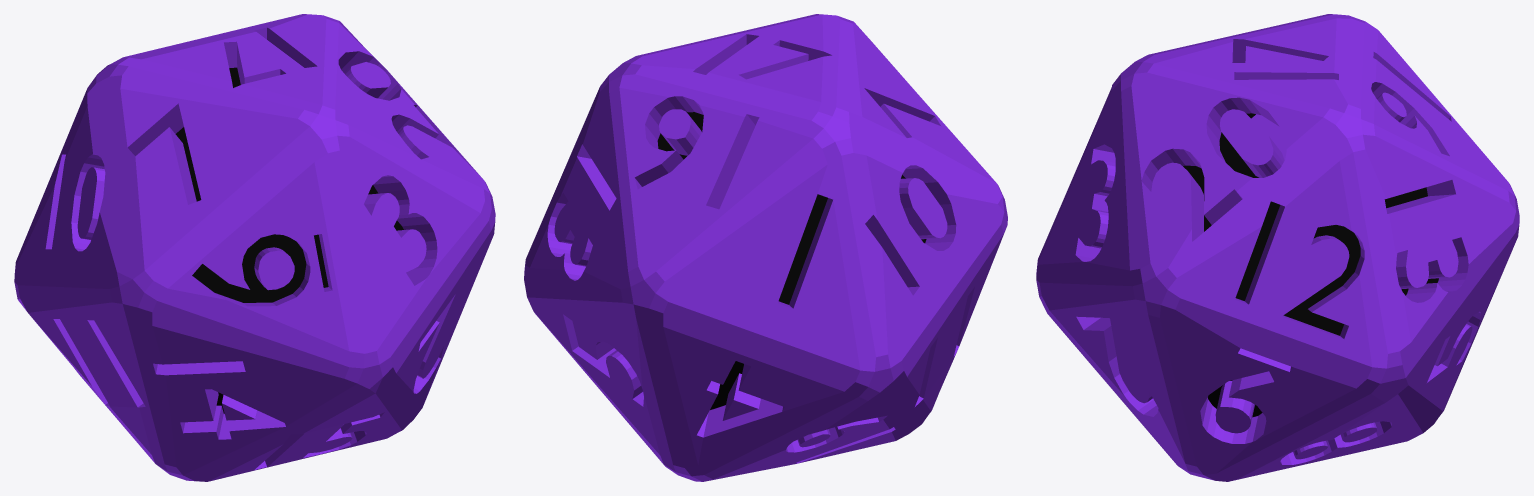
3 views of the same model, side by side, from view 1: azimuth 30°, elevation 25°; view 2: azimuth 150°, elevation 25°; view 3: azimuth 270°, elevation 25° (orthographic).
Visible parts, largest first — view 1: D20; view 2: D20; view 3: D20.
Boxes of the visible parts, x1,y1,x2,y2 form: D20: (14,14,495,481); D20: (524,14,1007,481); D20: (1036,14,1519,481).
Bounding box in the file's own units: 25.78 × 24.53 × 28.35.
